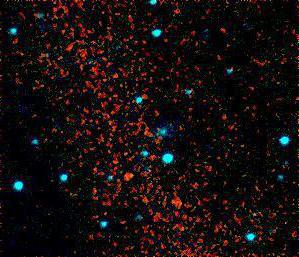star: (204, 16, 234, 46)
